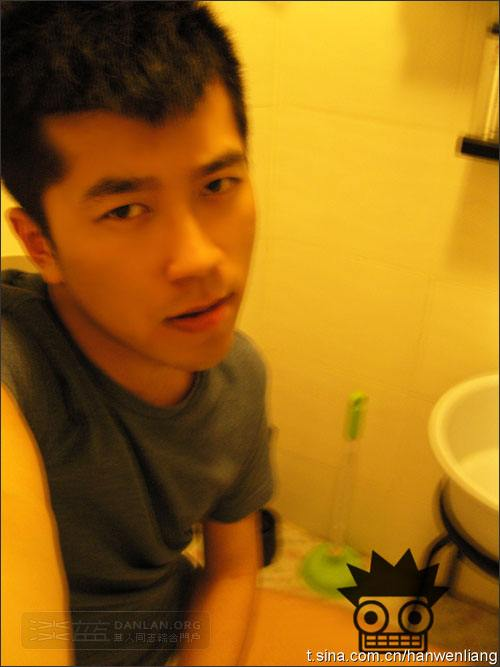person: (1, 1, 401, 553)
